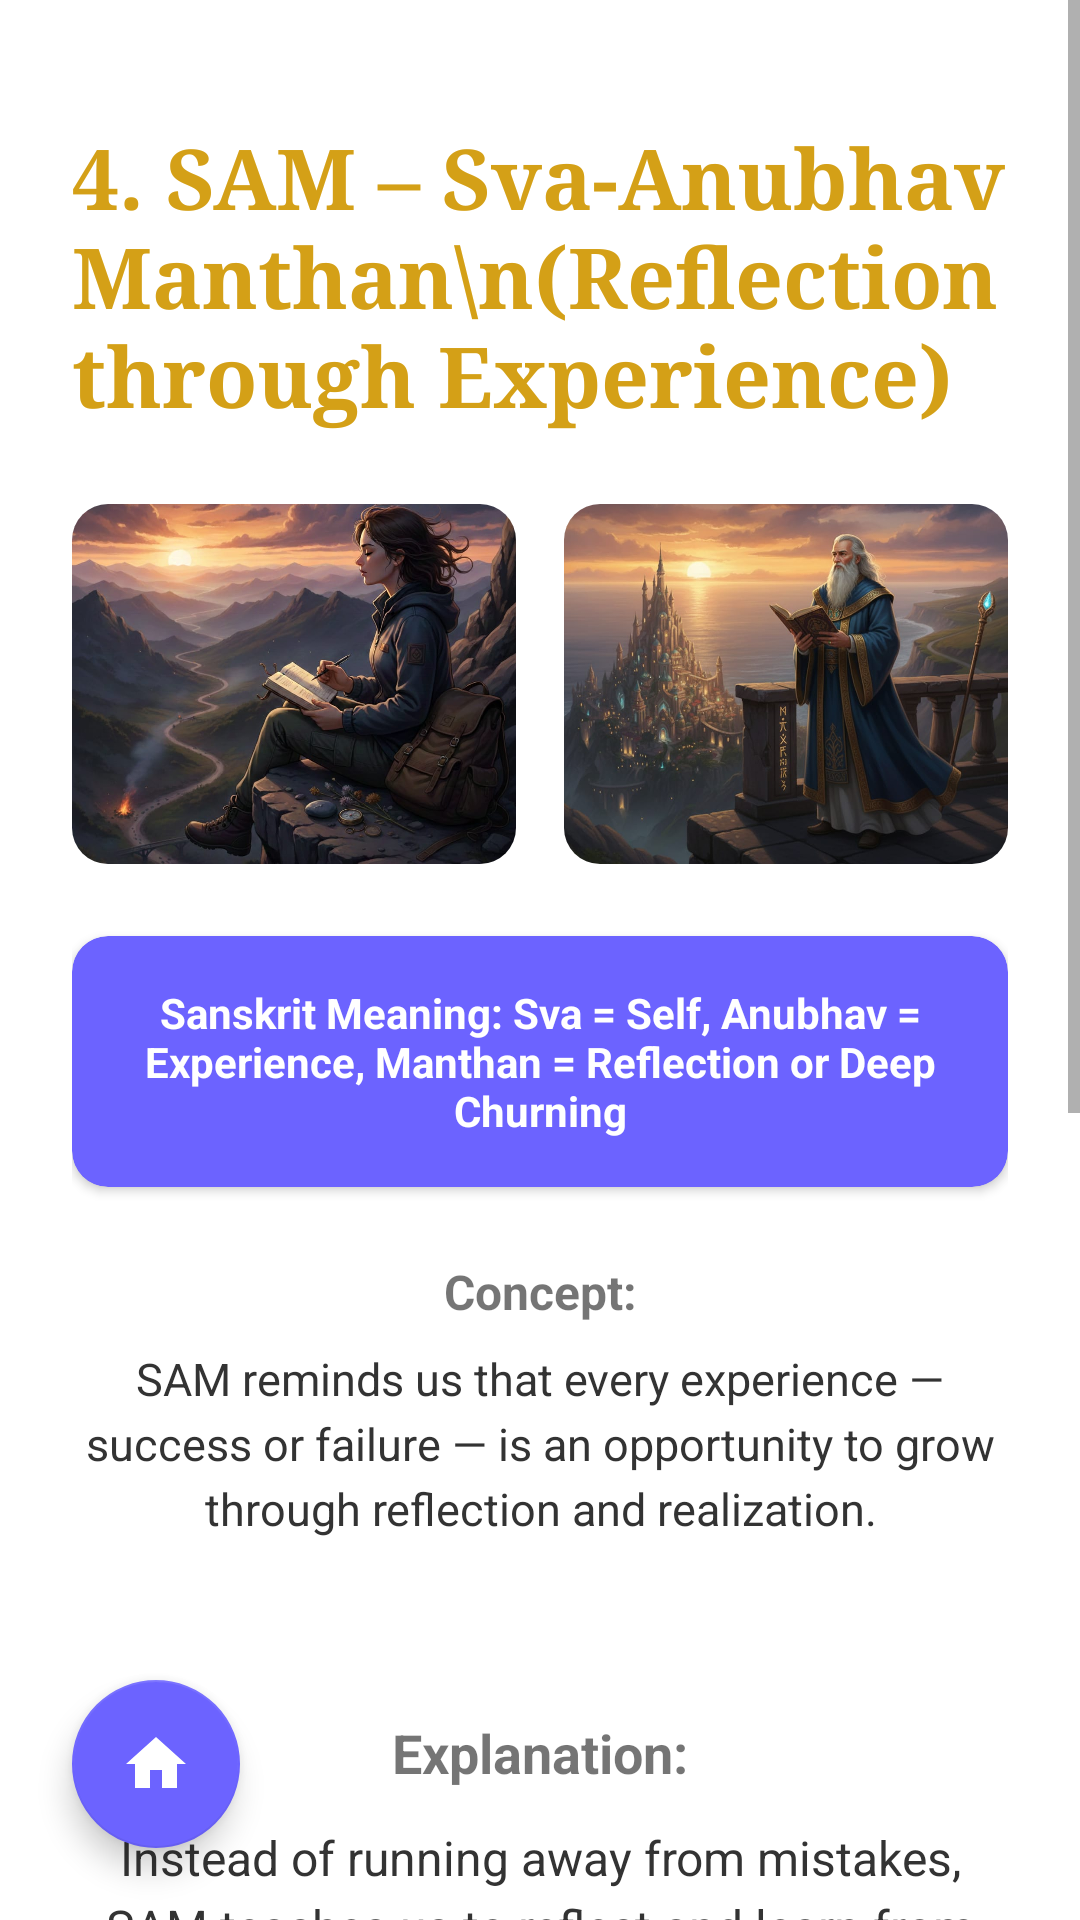

Icons on this 1080×1920 Android screen, each with its box as {"x1": x1, "y1": y1, "x2": x2, "y2": y2}:
home: {"x1": 72, "y1": 1680, "x2": 240, "y2": 1848}
